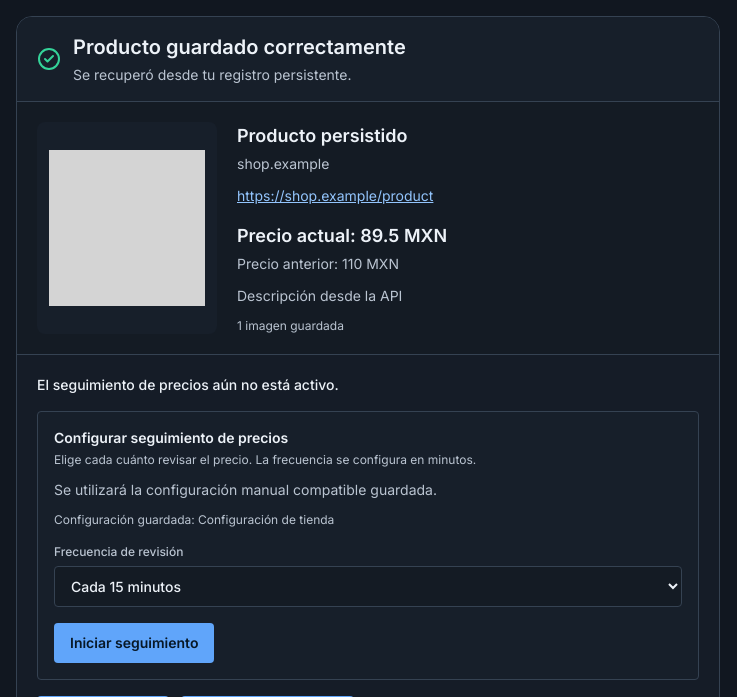
Test: ProductSavedPage › creates a monitor with the selected m5 frequency
Select "Cada 5 minutos" in the dropdown named "Frecuencia de revisión": [368, 586] box [54, 566, 682, 607]
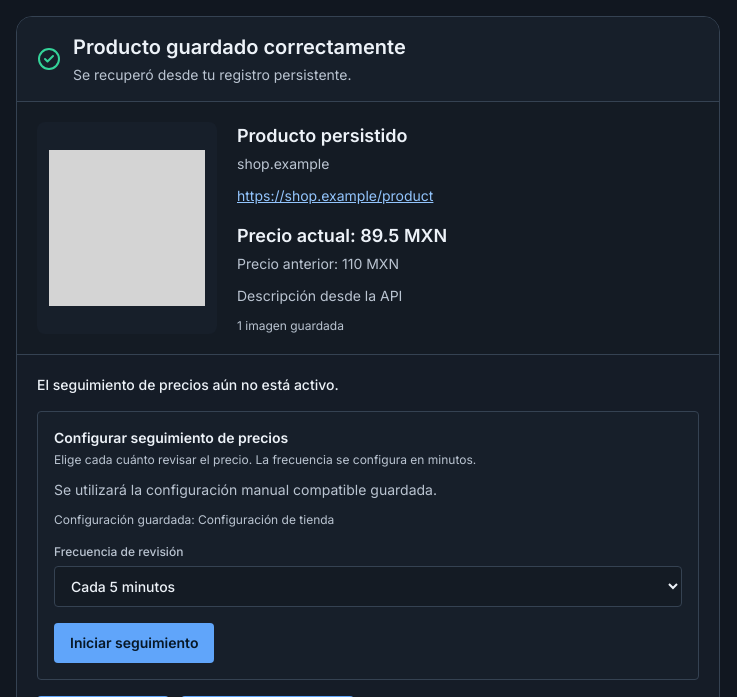
Click the button "Iniciar seguimiento": [134, 643] box [54, 623, 214, 663]
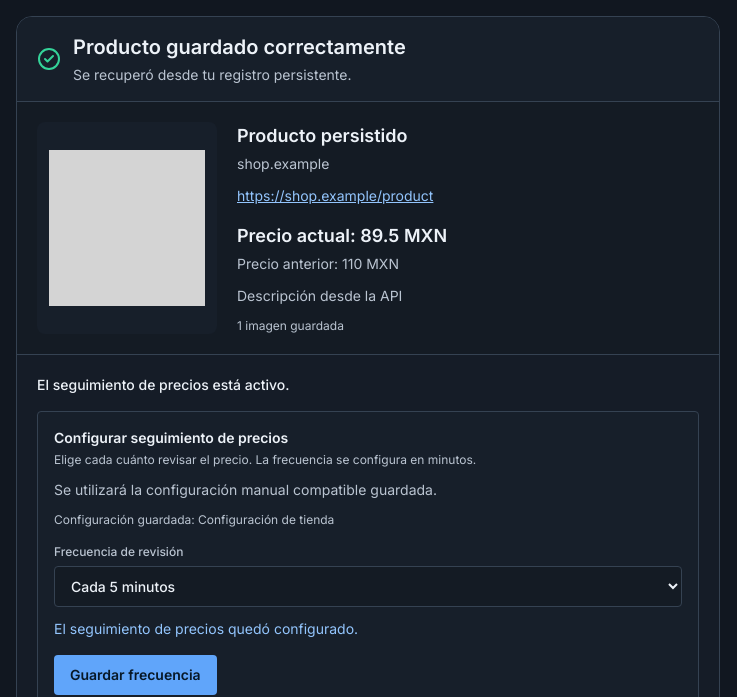
expect the text "El seguimiento de precios quedó configurado." is shown: met, box [54, 620, 358, 637]
expect the text "El seguimiento de precios está activo." is shown: met, box [37, 376, 290, 393]
